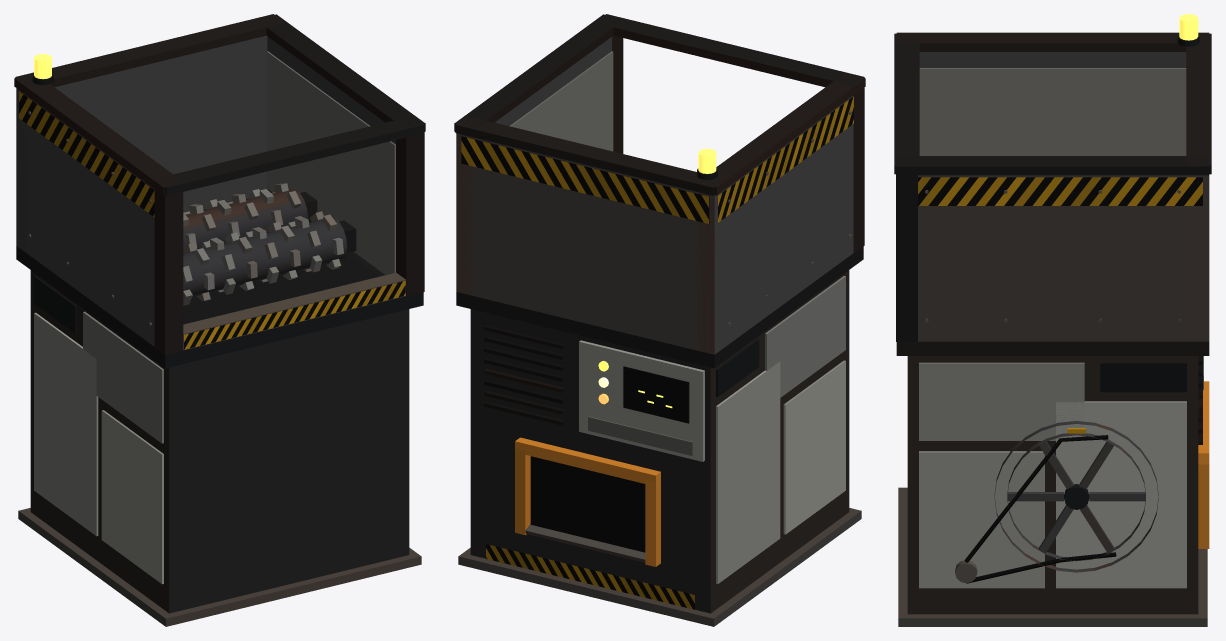
Rendered from grinder.glb.
3 renders of one model, left to right at view 1: azimuth 30°, elevation 25°; view 2: azimuth 150°, elevation 25°; view 3: azimuth 270°, elevation 25°, orthographic. The views are drawn at different scales.
Visible parts, largest first — view 1: Body, RollerA, RollerB, BeaconBase; view 2: Body, BeaconBase; view 3: Body, Flywheel, BeaconBase.
Part boxes in pixels (bbox=[...]): Body: bbox=[14, 14, 425, 626]; RollerA: bbox=[183, 211, 347, 305]; RollerB: bbox=[183, 183, 308, 253]; BeaconBase: bbox=[32, 54, 53, 85]; Body: bbox=[454, 14, 865, 626]; BeaconBase: bbox=[697, 148, 717, 179]; Body: bbox=[894, 32, 1211, 626]; Flywheel: bbox=[994, 421, 1158, 572]; BeaconBase: bbox=[1177, 14, 1199, 46].
Size of the model in its own units: 2.01 by 3.4 by 2.01.
